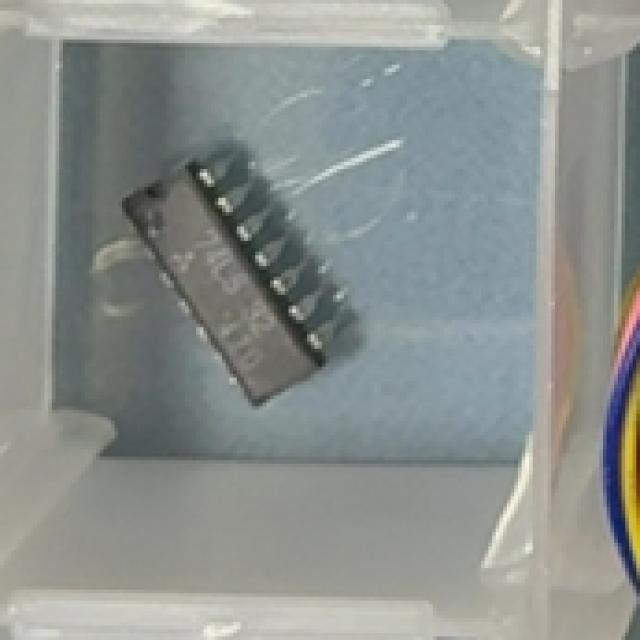IC: (121, 162, 336, 410)
